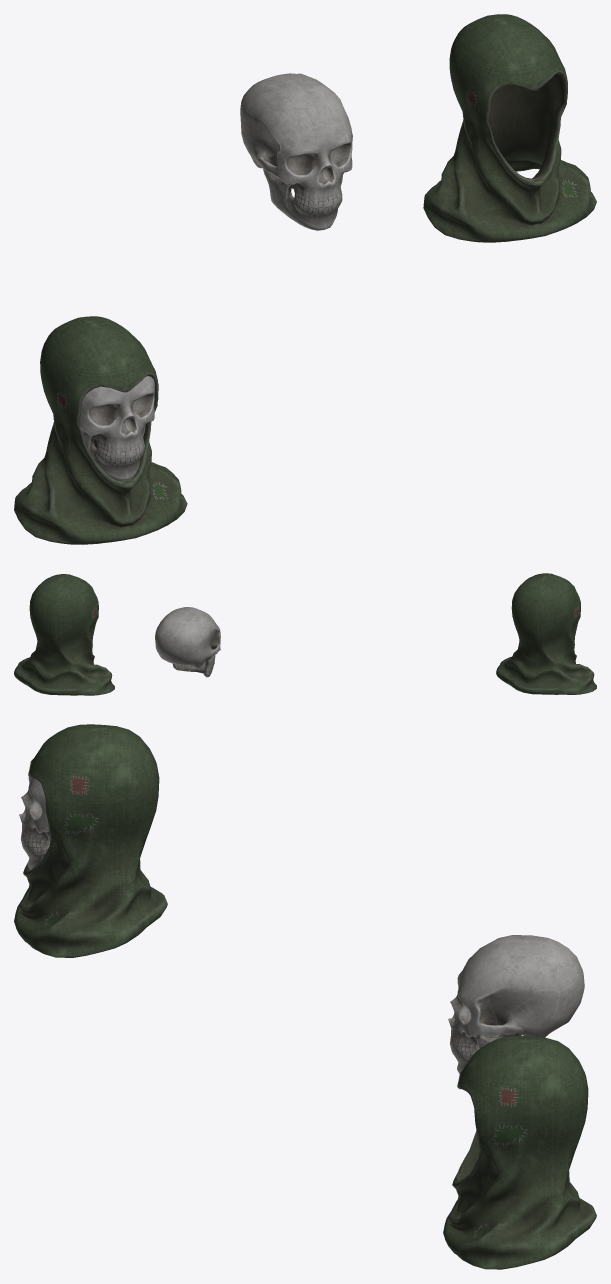
File: sketch.fbx
The picture shows the model from 3 angles, top to bottom: view 1: azimuth 30°, elevation 25°; view 2: azimuth 150°, elevation 25°; view 3: azimuth 270°, elevation 25°; orthographic projection. The views are drawn at different scales.
Visible parts, largest first — view 1: cloth_low.001, cloth_low, skull_low.001, skull_low; view 2: cloth_low.001, cloth_low, skull_low.001; view 3: cloth_low.001, cloth_low, skull_low.001, skull_low.
Part boxes in pixels (<box>): cloth_low.001: <box>423,14,596,242</box>; cloth_low: <box>14,316,187,544</box>; skull_low.001: <box>240,73,352,230</box>; skull_low: <box>79,376,154,480</box>; cloth_low.001: <box>14,574,114,695</box>; cloth_low: <box>496,573,596,694</box>; skull_low.001: <box>155,607,220,677</box>; cloth_low.001: <box>443,1036,596,1269</box>; cloth_low: <box>14,724,167,957</box>; skull_low.001: <box>448,935,584,1073</box>; skull_low: <box>19,776,50,869</box>.
Size of the model in its own units: 3636 by 846 by 2301.
